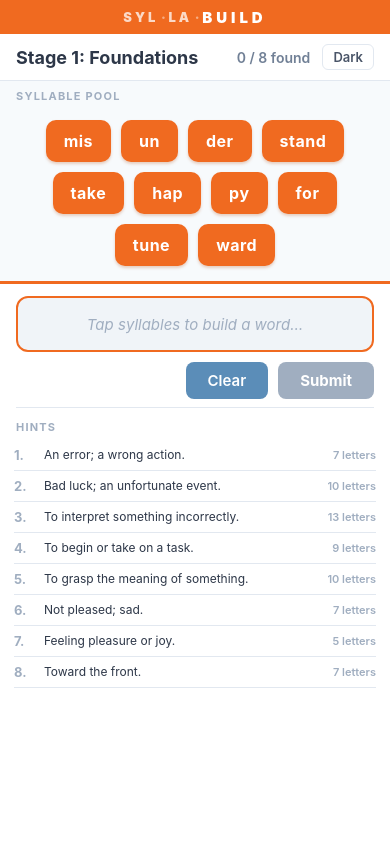
Test: GameScreen — syllable selection › tapping a syllable tile removes the placeholder and shows a chip
This screenshot has width=390, height=844.
Click the text "mis".
click(78, 141)  # box top-left (64, 131), bottom-right (93, 151)
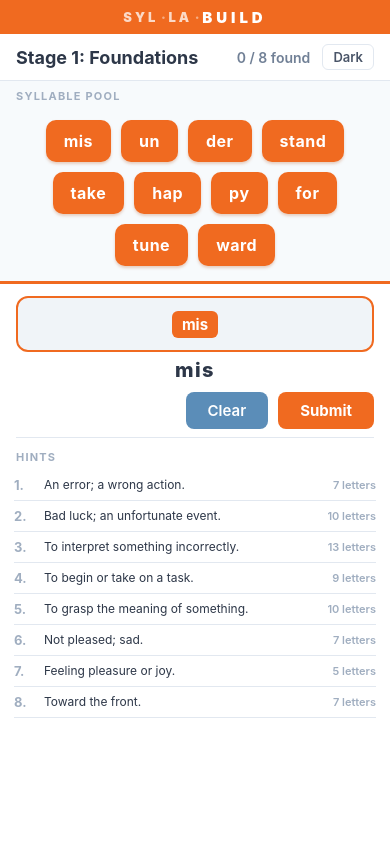
expect the text "Tap syllables to build a word…" is gone: met
